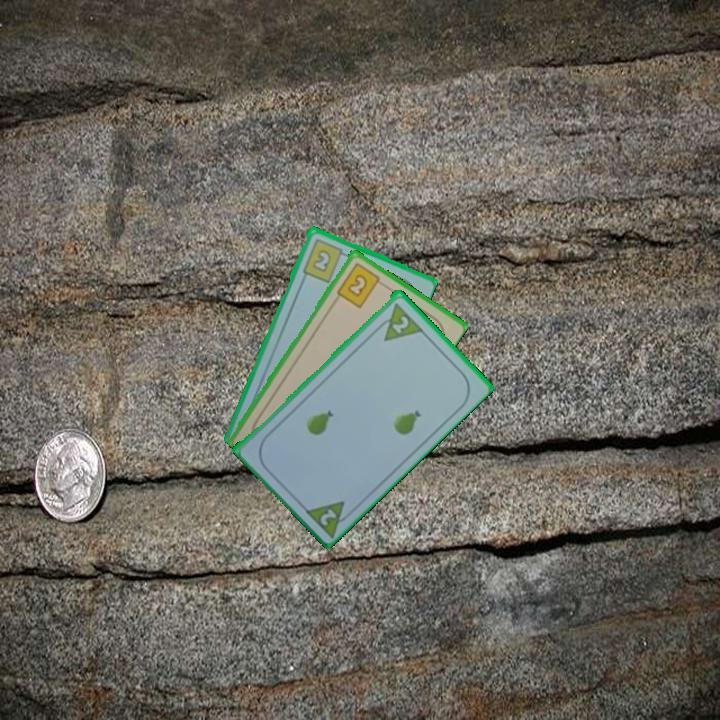2b: (333, 259, 387, 310), (299, 235, 350, 285)
2p: (300, 497, 357, 540), (388, 312, 412, 336)
